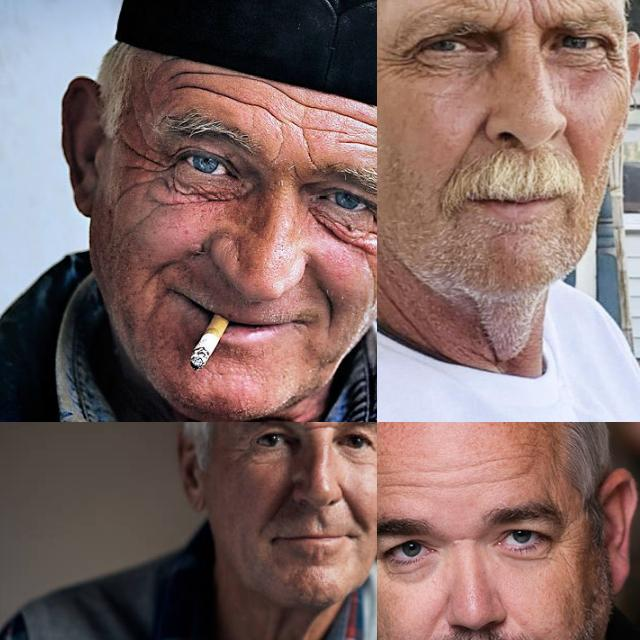crows_feet: (125, 139, 169, 187), (381, 40, 419, 76), (604, 40, 630, 80), (554, 526, 584, 560), (232, 442, 252, 473)
forehead: (168, 64, 220, 100), (226, 85, 268, 125), (286, 90, 334, 122), (290, 116, 344, 142), (491, 464, 535, 492), (478, 446, 522, 474), (380, 473, 426, 497), (442, 472, 482, 491), (536, 0, 597, 11), (354, 134, 377, 162), (355, 115, 377, 142), (457, 0, 498, 12)
frown_line: (450, 527, 480, 551), (494, 0, 514, 32), (520, 0, 543, 27), (299, 422, 337, 434)
gummy_smile: (459, 108, 485, 166), (154, 246, 188, 280), (262, 486, 296, 520), (318, 287, 338, 333), (338, 487, 358, 525)
